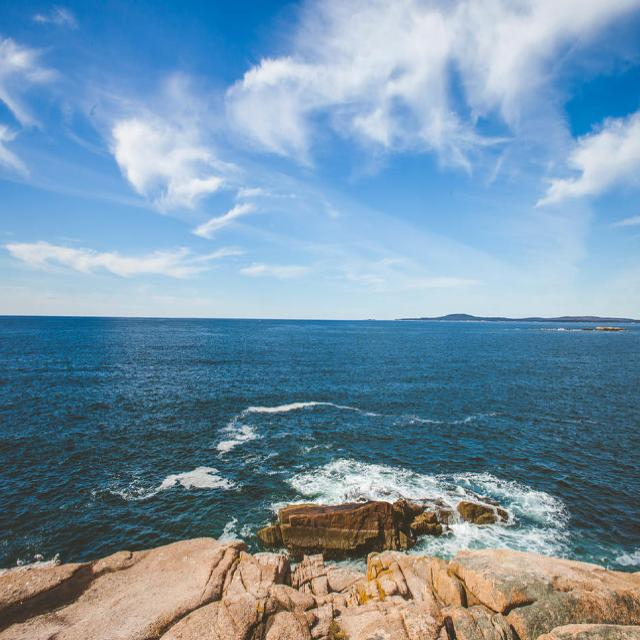reef: (196, 472, 501, 601)
